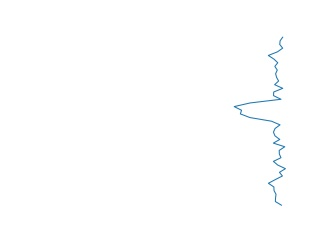interdistributaryEstuary: (228, 36, 293, 207)
